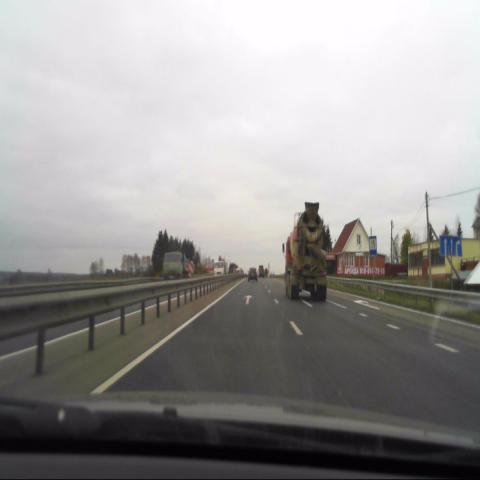5_15_1: (439, 235, 462, 257)
